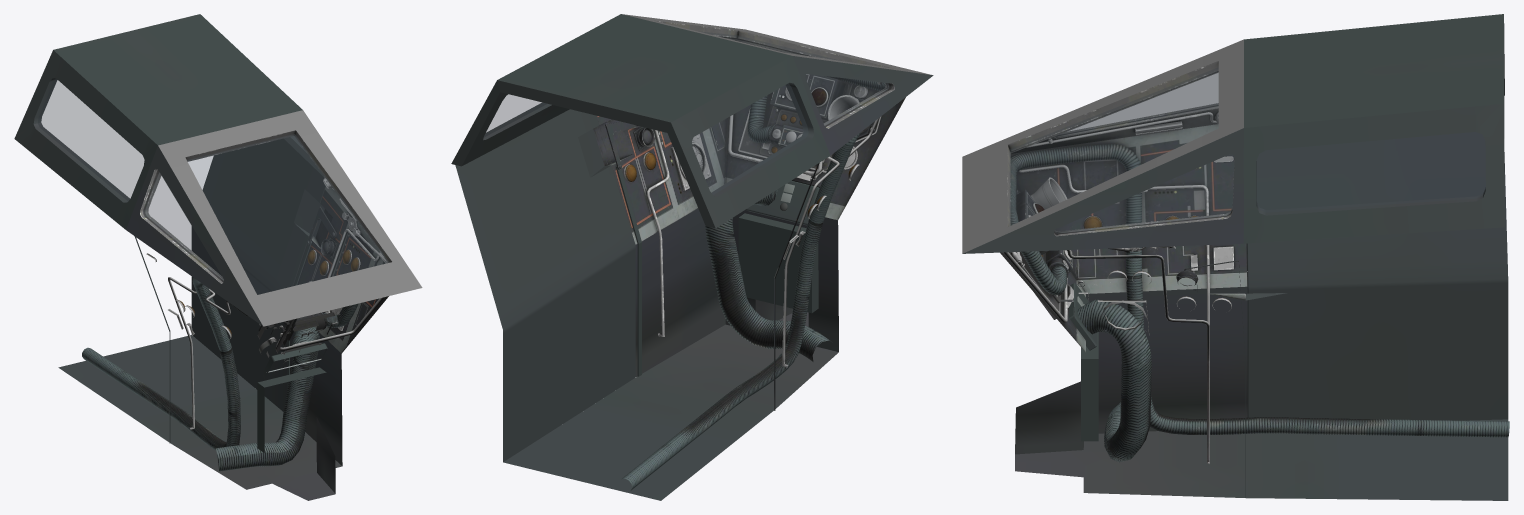
Rendered from ywingcockpit.glb.
The picture shows the model from 3 angles, left to right: view 1: azimuth 30°, elevation 25°; view 2: azimuth 150°, elevation 25°; view 3: azimuth 270°, elevation 25°; orthographic projection. The views are drawn at different scales.
Bounding box in the file's own units: 1.63 × 2.25 × 2.76.
3 materials, 1 textured.
